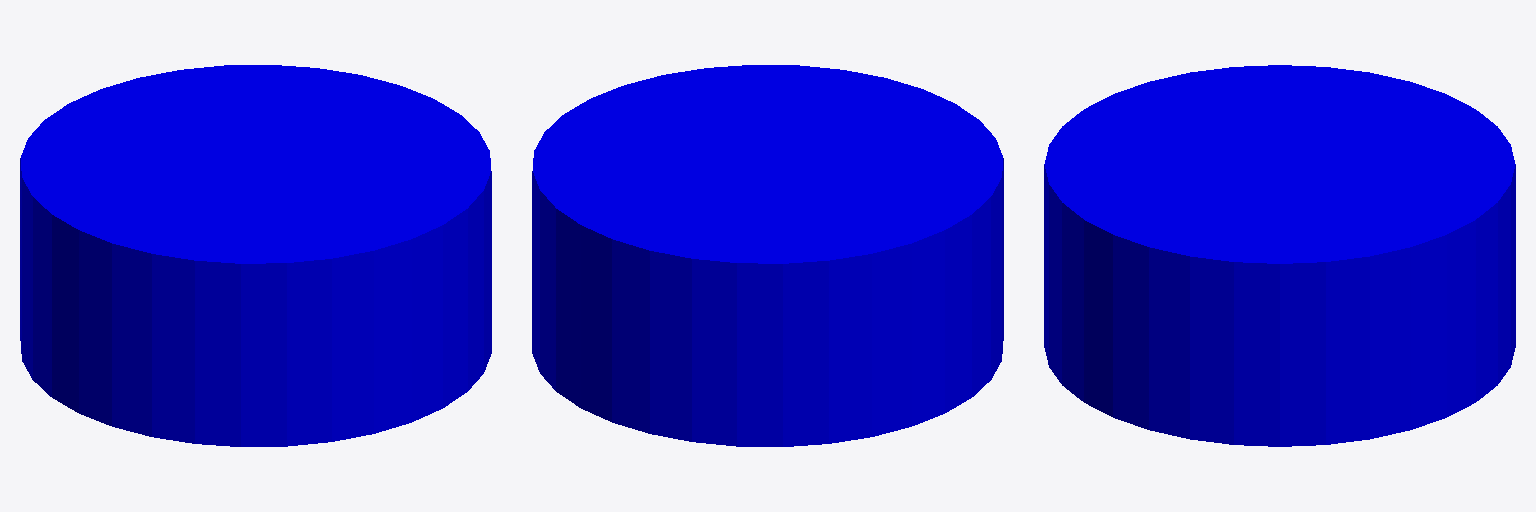
robot.urdf — cylinder3:
<?xml version="1.0"?>
<robot name="cylinder3">
<link name="base_link">
<inertial>
<origin xyz="0 0 0" rpy="0 0 0"/>
<mass value="0.1"/>
<inertia ixx="0.000683333" ixy="0" ixz="0" iyy="0.000683333" iyz="0" izz="0.000683333"/>
</inertial>
    <visual>
    <geometry>
    <cylinder length="0.012" radius="0.014"/>
    </geometry>
	<material>
	<color rgba="0 0 1 1" />
	</material>
    </visual>
</link>
</robot>

--- Facts derived from the render (not from the file) ---
The picture shows the robot from 3 angles, left to right: view 1: azimuth 30°, elevation 25°; view 2: azimuth 150°, elevation 25°; view 3: azimuth 270°, elevation 25°; orthographic projection.
Model cylinder3 with 1 links and 0 joints (none), rooted at base_link, posed every joint at zero.
Links seen in each view (by area): view 1: base_link; view 2: base_link; view 3: base_link.
Link boxes in pixels (x1,y1,x2,y2): base_link: (20,65,491,446); base_link: (532,65,1003,446); base_link: (1044,65,1515,446).
Bounding box of the posed robot: 0.028 × 0.028 × 0.012 m (x, y, z).
Geometry: primitives only (box / cylinder / sphere), no mesh files.
